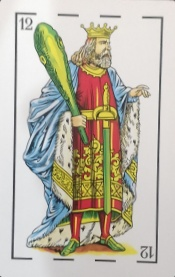12b: (14, 11, 166, 34)
